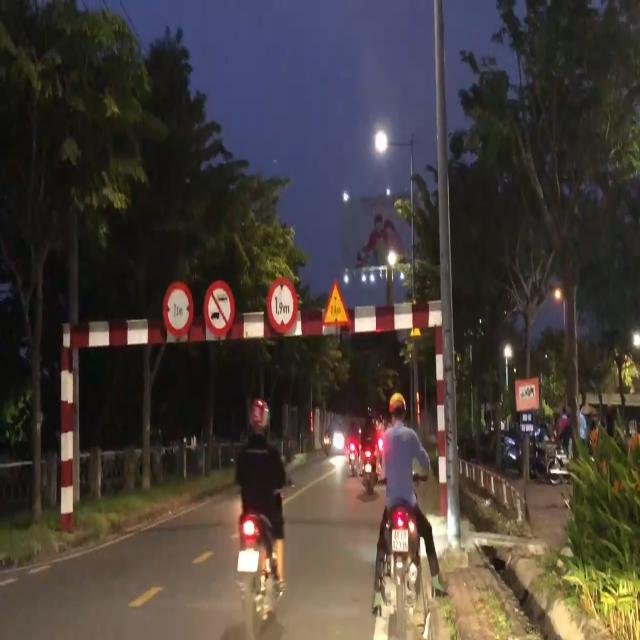Bien bao cam xe oto khach va xe oto tai: (202, 274, 238, 337)
Bien bao chieu cao tinh khong thuc te: (317, 278, 355, 336)
Bien bao han che chieu cao: (263, 274, 299, 341)
